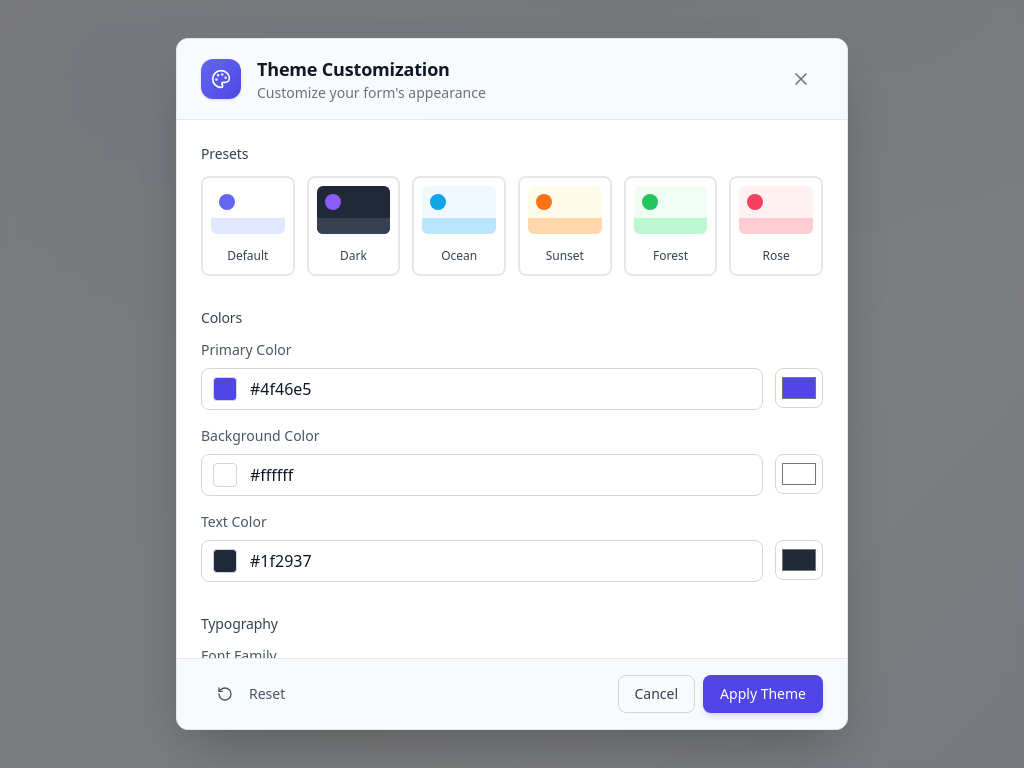
Test: Apply Theme › stays open and says so when the save did not arrive
Click the button "Apply Theme": (763, 694) [703,675,823,713]
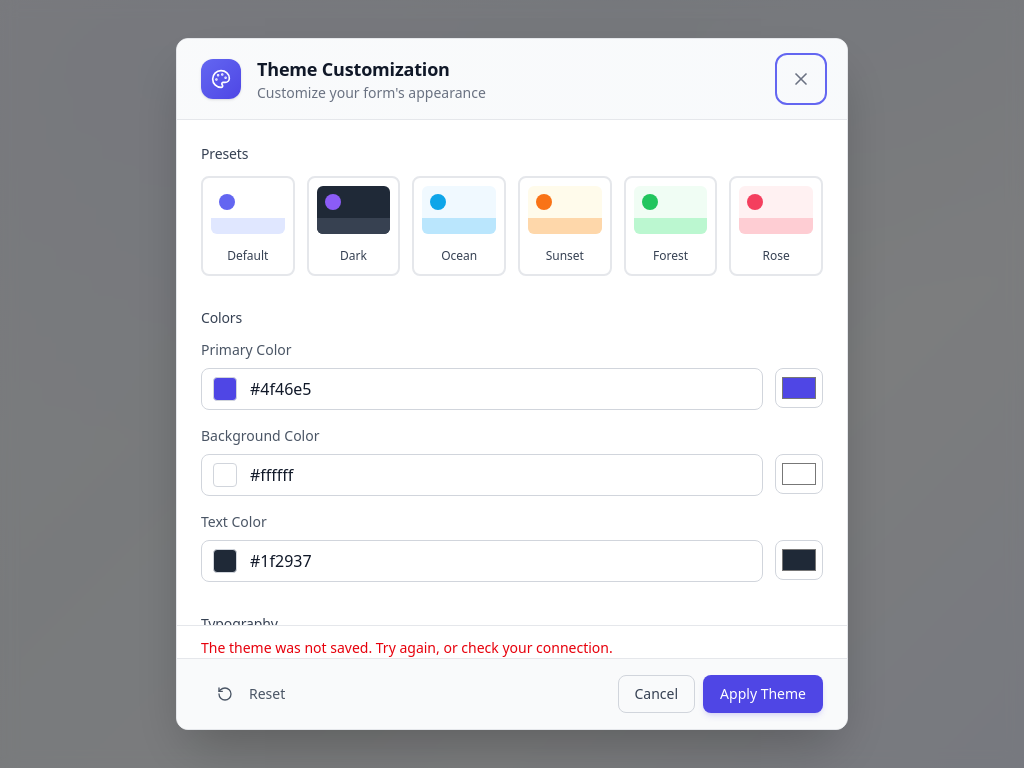
Check: the message "The theme was not saved. Try again, or check your connection." is shown, box [177,625,847,658]
